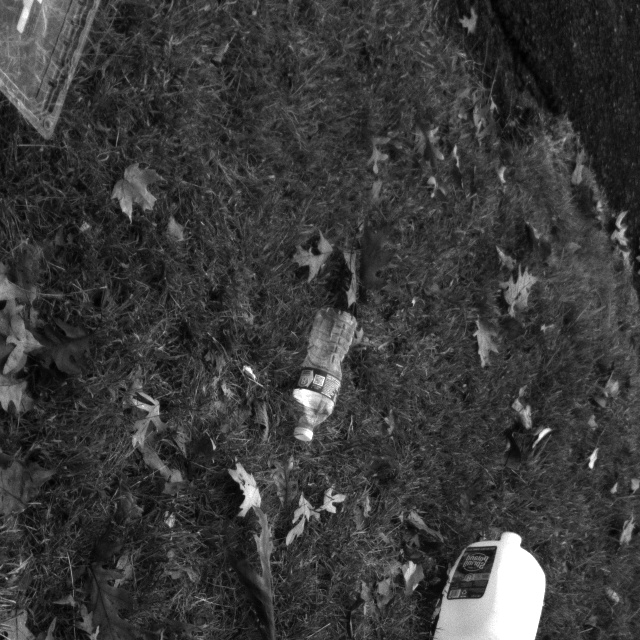bottle: (271, 284, 374, 466)
can: (416, 517, 561, 640)
container: (0, 0, 126, 130)
